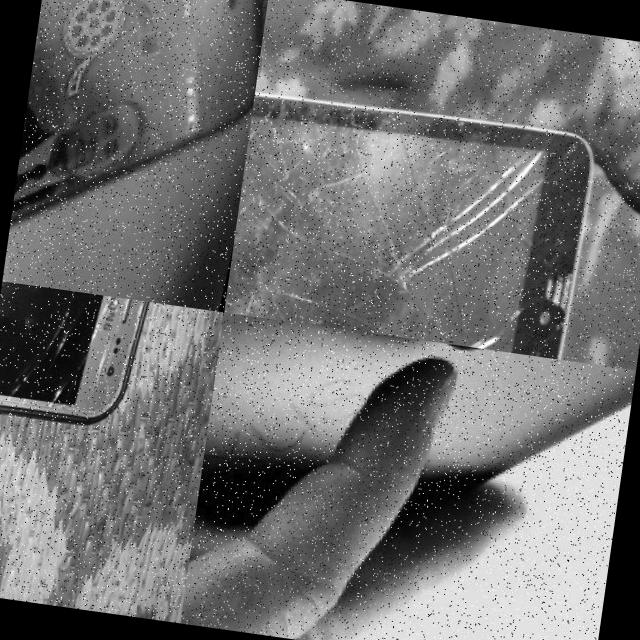screen crack: (225, 86, 600, 361), (1, 284, 165, 440)
